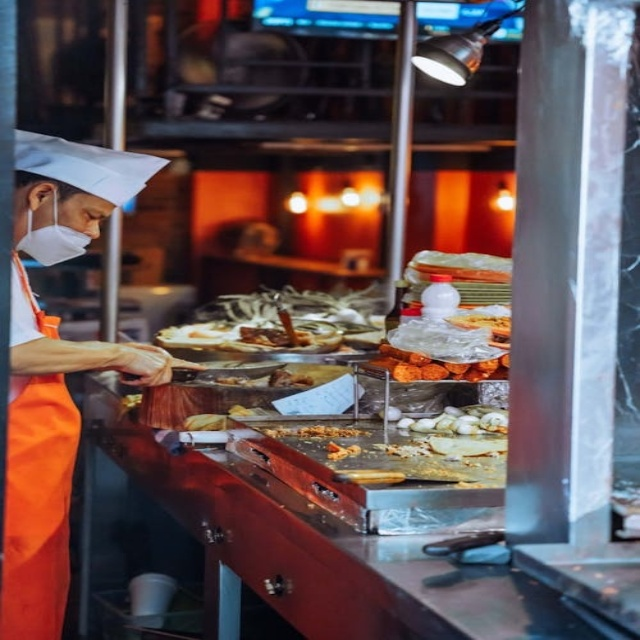Mascara: (14, 189, 93, 266)
Sin_gafas: (63, 198, 113, 223)
Sin_guantes: (103, 343, 198, 388)
